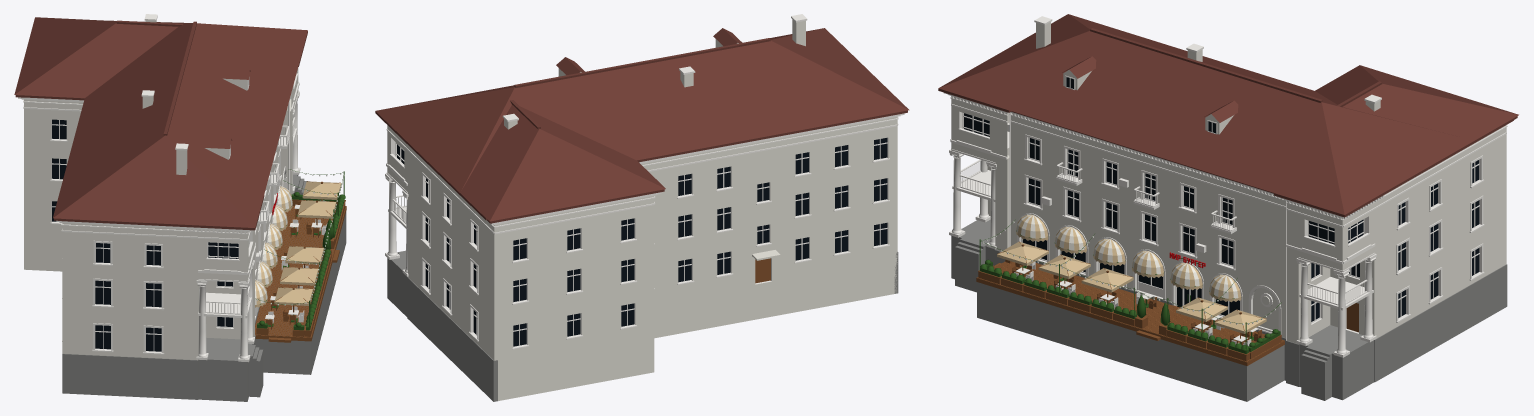
File: mir_burger.glb
The picture shows the model from 3 angles, left to right: view 1: azimuth 30°, elevation 25°; view 2: azimuth 150°, elevation 25°; view 3: azimuth 270°, elevation 25°; orthographic projection. The views are drawn at different scales.
Parts seen in each view (by area): view 1: mir_burger_roof, mir_burger_wall, mir_burger_stone, mir_burger_trim, mir_burger_wood, mir_burger_wall2, mir_burger_glass, mir_burger_metal, mir_burger_trim_s; view 2: mir_burger_wall, mir_burger_roof, mir_burger_trim, mir_burger_glass, mir_burger_stone, mir_burger_trim_s; view 3: mir_burger_roof, mir_burger_wall, mir_burger_stone, mir_burger_trim, mir_burger_wood, mir_burger_glass, mir_burger_wall2, mir_burger_metal, mir_burger_trim_s.
Part boxes in pixels (x1,y1,x2,y2): mir_burger_roof: (14, 17, 307, 230); mir_burger_wall: (24, 20, 298, 360); mir_burger_stone: (62, 174, 346, 401); mir_burger_trim: (18, 14, 344, 362); mir_burger_wood: (255, 181, 346, 342); mir_burger_wall2: (255, 181, 341, 307); mir_burger_glass: (52, 119, 238, 351); mir_burger_metal: (255, 169, 345, 330); mir_burger_trim_s: (198, 101, 298, 359); mir_burger_wall: (387, 19, 897, 400); mir_burger_roof: (375, 28, 909, 223); mir_burger_trim: (385, 14, 904, 349); mir_burger_glass: (397, 138, 887, 346); mir_burger_stone: (387, 250, 898, 401); mir_burger_trim_s: (387, 179, 407, 272); mir_burger_roof: (938, 14, 1518, 217); mir_burger_wall: (951, 22, 1506, 343); mir_burger_stone: (951, 219, 1507, 401); mir_burger_trim: (944, 16, 1507, 357); mir_burger_wood: (976, 241, 1358, 365); mir_burger_glass: (964, 77, 1479, 321); mir_burger_wall2: (997, 214, 1266, 333); mir_burger_metal: (979, 219, 1281, 353); mir_burger_trim_s: (952, 154, 1373, 353).
Bounding box in the file's own units: 35.7 × 20.41 × 43.62.
